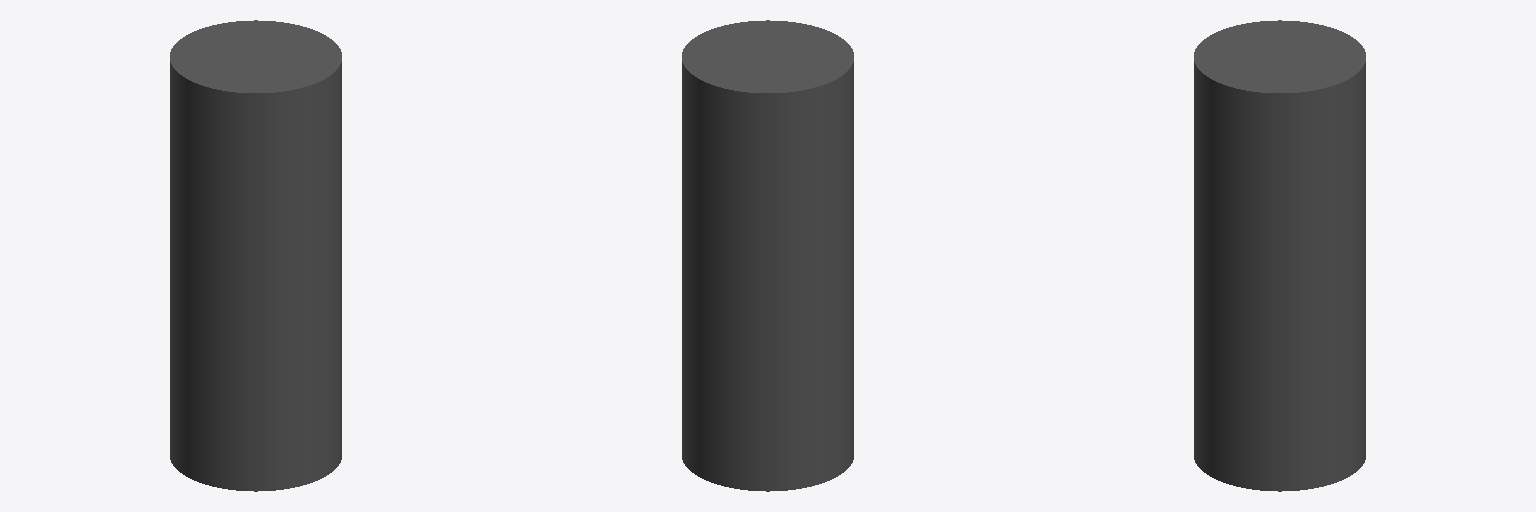
URDF robot description (iiwa14):
<?xml version="1.0" encoding="utf-8"?>
<!-- =================================================================================== -->
<!-- |    This document was autogenerated by xacro from src/iiwa_description/urdf/iiwa14.urdf.xacro | -->
<!-- |    EDITING THIS FILE BY HAND IS NOT RECOMMENDED                                 | -->
<!-- =================================================================================== -->
<robot name="iiwa14">
  <material name="Black">
    <color rgba="0.0 0.0 0.0 1.0"/>
  </material>
  <material name="Blue">
    <color rgba="0.0 0.0 0.8 1.0"/>
  </material>
  <material name="Green">
    <color rgba="0.0 0.8 0.0 1.0"/>
  </material>
  <material name="Grey">
    <color rgba="0.4 0.4 0.4 1.0"/>
  </material>
  <material name="Orange">
    <color rgba="1.0 0.423529411765 0.0392156862745 1.0"/>
  </material>
  <material name="Brown">
    <color rgba="0.870588235294 0.811764705882 0.764705882353 1.0"/>
  </material>
  <material name="Red">
    <color rgba="0.8 0.0 0.0 1.0"/>
  </material>
  <material name="White">
    <color rgba="1.0 1.0 1.0 1.0"/>
  </material>
  <!-- Fix to world just for testing -->
  <link name="world"/>
  <!--joint between {parent} and link_0-->
  <joint name="world_iiwa_joint" type="fixed">
    <origin rpy="0 0 0" xyz="0 0 0"/>
    <parent link="world"/>
    <child link="iiwa_link_0"/>
  </joint>
  <link name="iiwa_link_0">
    <inertial>
      <origin rpy="0 0 0" xyz="-0.1 0 0.07"/>
      <mass value="5"/>
      <inertia ixx="0.05" ixy="0" ixz="0" iyy="0.06" iyz="0" izz="0.03"/>
    </inertial>
    <visual>
      <origin rpy="0 0 0" xyz="0 0 0"/>
      <geometry>
        <mesh filename="package://iiwa_description/meshes/iiwa14/visual/link_0.stl"/>
      </geometry>
      <material name="Grey"/>
    </visual>
    <collision>
      <origin rpy="0 0 0" xyz="0 0 0"/>
      <geometry>
        <mesh filename="package://iiwa_description/meshes/iiwa14/collision/link_0.stl"/>
      </geometry>
      <material name="Grey"/>
    </collision>
    <self_collision_checking>
      <origin rpy="0 0 0" xyz="0 0 0"/>
      <geometry>
        <capsule length="0.25" radius="0.15"/>
      </geometry>
    </self_collision_checking>
  </link>
  <!-- joint between link_0 and link_1 -->
  <joint name="iiwa_joint_1" type="revolute">
    <parent link="iiwa_link_0"/>
    <child link="iiwa_link_1"/>
    <origin rpy="0 0 0" xyz="0 0 0.1575"/>
    <axis xyz="0 0 1"/>
    <limit effort="300" lower="-2.96705972839" upper="2.96705972839" velocity="10"/>
    <safety_controller k_position="100" k_velocity="2" soft_lower_limit="-2.93215314335" soft_upper_limit="2.93215314335"/>
    <dynamics damping="0.5"/>
  </joint>
  <link name="iiwa_link_1">
    <inertial>
      <origin rpy="0 0 0" xyz="0 -0.03 0.12"/>
      <mass value="4"/>
      <inertia ixx="0.1" ixy="0" ixz="0" iyy="0.09" iyz="0" izz="0.02"/>
    </inertial>
    <visual>
      <origin rpy="0 0 0" xyz="0 0 0"/>
      <geometry>
        <mesh filename="package://iiwa_description/meshes/iiwa14/visual/link_1.stl"/>
      </geometry>
      <material name="Orange"/>
    </visual>
    <collision>
      <origin rpy="0 0 0" xyz="0 0 0"/>
      <geometry>
        <mesh filename="package://iiwa_description/meshes/iiwa14/collision/link_1.stl"/>
      </geometry>
      <material name="Orange"/>
    </collision>
  </link>
  <!-- joint between link_1 and link_2 -->
  <joint name="iiwa_joint_2" type="revolute">
    <parent link="iiwa_link_1"/>
    <child link="iiwa_link_2"/>
    <origin rpy="1.57079632679   0 3.14159265359" xyz="0 0 0.2025"/>
    <axis xyz="0 0 1"/>
    <limit effort="300" lower="-2.09439510239" upper="2.09439510239" velocity="10"/>
    <safety_controller k_position="100" k_velocity="2" soft_lower_limit="-2.05948851735" soft_upper_limit="2.05948851735"/>
    <dynamics damping="0.5"/>
  </joint>
  <link name="iiwa_link_2">
    <inertial>
      <origin rpy="0 0 0" xyz="0.0003 0.059 0.042"/>
      <mass value="4"/>
      <inertia ixx="0.05" ixy="0" ixz="0" iyy="0.018" iyz="0" izz="0.044"/>
    </inertial>
    <visual>
      <origin rpy="0 0 0" xyz="0 0 0"/>
      <geometry>
        <mesh filename="package://iiwa_description/meshes/iiwa14/visual/link_2.stl"/>
      </geometry>
      <material name="Orange"/>
    </visual>
    <collision>
      <origin rpy="0 0 0" xyz="0 0 0"/>
      <geometry>
        <mesh filename="package://iiwa_description/meshes/iiwa14/collision/link_2.stl"/>
      </geometry>
      <material name="Orange"/>
    </collision>
  </link>
  <!-- joint between link_2 and link_3 -->
  <joint name="iiwa_joint_3" type="revolute">
    <parent link="iiwa_link_2"/>
    <child link="iiwa_link_3"/>
    <origin rpy="1.57079632679 0 3.14159265359" xyz="0 0.2045 0"/>
    <axis xyz="0 0 1"/>
    <limit effort="300" lower="-2.96705972839" upper="2.96705972839" velocity="10"/>
    <safety_controller k_position="100" k_velocity="2" soft_lower_limit="-2.93215314335" soft_upper_limit="2.93215314335"/>
    <dynamics damping="0.5"/>
  </joint>
  <link name="iiwa_link_3">
    <inertial>
      <origin rpy="0 0 0" xyz="0 0.03 0.13"/>
      <mass value="3"/>
      <inertia ixx="0.08" ixy="0" ixz="0" iyy="0.075" iyz="0" izz="0.01"/>
    </inertial>
    <visual>
      <origin rpy="0 0 0" xyz="0 0 0"/>
      <geometry>
        <mesh filename="package://iiwa_description/meshes/iiwa14/visual/link_3.stl"/>
      </geometry>
      <material name="Orange"/>
    </visual>
    <collision>
      <origin rpy="0 0 0" xyz="0 0 0"/>
      <geometry>
        <mesh filename="package://iiwa_description/meshes/iiwa14/collision/link_3.stl"/>
      </geometry>
      <material name="Orange"/>
    </collision>
  </link>
  <!-- joint between link_3 and link_4 -->
  <joint name="iiwa_joint_4" type="revolute">
    <parent link="iiwa_link_3"/>
    <child link="iiwa_link_4"/>
    <origin rpy="1.57079632679 0 0" xyz="0 0 0.2155"/>
    <axis xyz="0 0 1"/>
    <limit effort="300" lower="-2.09439510239" upper="2.09439510239" velocity="10"/>
    <safety_controller k_position="100" k_velocity="2" soft_lower_limit="-2.05948851735" soft_upper_limit="2.05948851735"/>
    <dynamics damping="0.5"/>
  </joint>
  <link name="iiwa_link_4">
    <inertial>
      <origin rpy="0 0 0" xyz="0 0.067 0.034"/>
      <mass value="2.7"/>
      <inertia ixx="0.03" ixy="0" ixz="0" iyy="0.01" iyz="0" izz="0.029"/>
    </inertial>
    <visual>
      <origin rpy="0 0 0" xyz="0 0 0"/>
      <geometry>
        <mesh filename="package://iiwa_description/meshes/iiwa14/visual/link_4.stl"/>
      </geometry>
      <material name="Orange"/>
    </visual>
    <collision>
      <origin rpy="0 0 0" xyz="0 0 0"/>
      <geometry>
        <mesh filename="package://iiwa_description/meshes/iiwa14/collision/link_4.stl"/>
      </geometry>
      <material name="Orange"/>
    </collision>
  </link>
  <!-- joint between link_4 and link_5 -->
  <joint name="iiwa_joint_5" type="revolute">
    <parent link="iiwa_link_4"/>
    <child link="iiwa_link_5"/>
    <origin rpy="-1.57079632679 3.14159265359 0" xyz="0 0.1845 0"/>
    <axis xyz="0 0 1"/>
    <limit effort="300" lower="-2.96705972839" upper="2.96705972839" velocity="10"/>
    <safety_controller k_position="100" k_velocity="2" soft_lower_limit="-2.93215314335" soft_upper_limit="2.93215314335"/>
    <dynamics damping="0.5"/>
  </joint>
  <link name="iiwa_link_5">
    <inertial>
      <origin rpy="0 0 0" xyz="0.0001 0.021 0.076"/>
      <mass value="1.7"/>
      <inertia ixx="0.02" ixy="0" ixz="0" iyy="0.018" iyz="0" izz="0.005"/>
    </inertial>
    <visual>
      <origin rpy="0 0 0" xyz="0 0 0"/>
      <geometry>
        <mesh filename="package://iiwa_description/meshes/iiwa14/visual/link_5.stl"/>
      </geometry>
      <material name="Orange"/>
    </visual>
    <collision>
      <origin rpy="0 0 0" xyz="0 0 0"/>
      <geometry>
        <mesh filename="package://iiwa_description/meshes/iiwa14/collision/link_5.stl"/>
      </geometry>
      <material name="Orange"/>
    </collision>
  </link>
  <!-- joint between link_5 and link_6 -->
  <joint name="iiwa_joint_6" type="revolute">
    <parent link="iiwa_link_5"/>
    <child link="iiwa_link_6"/>
    <origin rpy="1.57079632679 0 0" xyz="0 0 0.2155"/>
    <axis xyz="0 0 1"/>
    <limit effort="300" lower="-2.09439510239" upper="2.09439510239" velocity="10"/>
    <safety_controller k_position="100" k_velocity="2" soft_lower_limit="-2.05948851735" soft_upper_limit="2.05948851735"/>
    <dynamics damping="0.5"/>
  </joint>
  <link name="iiwa_link_6">
    <inertial>
      <origin rpy="0 0 0" xyz="0 0.0006 0.0004"/>
      <mass value="1.8"/>
      <inertia ixx="0.005" ixy="0" ixz="0" iyy="0.0036" iyz="0" izz="0.0047"/>
    </inertial>
    <visual>
      <origin rpy="0 0 0" xyz="0 0 0"/>
      <geometry>
        <mesh filename="package://iiwa_description/meshes/iiwa14/visual/link_6.stl"/>
      </geometry>
      <material name="Orange"/>
    </visual>
    <collision>
      <origin rpy="0 0 0" xyz="0 0 0"/>
      <geometry>
        <mesh filename="package://iiwa_description/meshes/iiwa14/collision/link_6.stl"/>
      </geometry>
      <material name="Orange"/>
    </collision>
  </link>
  <!-- joint between link_6 and link_7 -->
  <joint name="iiwa_joint_7" type="revolute">
    <parent link="iiwa_link_6"/>
    <child link="iiwa_link_7"/>
    <origin rpy="-1.57079632679 3.14159265359 0" xyz="0 0.081 0"/>
    <axis xyz="0 0 1"/>
    <limit effort="300" lower="-3.05432619099" upper="3.05432619099" velocity="10"/>
    <safety_controller k_position="100" k_velocity="2" soft_lower_limit="-3.01941960595" soft_upper_limit="3.01941960595"/>
    <dynamics damping="0.5"/>
  </joint>
  <link name="iiwa_link_7">
    <inertial>
      <origin rpy="0 0 0" xyz="0 0 0.02"/>
      <mass value="0.3"/>
      <inertia ixx="0.001" ixy="0" ixz="0" iyy="0.001" iyz="0" izz="0.001"/>
    </inertial>
    <visual>
      <origin rpy="0 0 0" xyz="0 0 0"/>
      <geometry>
        <mesh filename="package://iiwa_description/meshes/iiwa14/visual/link_7.stl"/>
      </geometry>
      <material name="Grey"/>
    </visual>
    <collision>
      <origin rpy="0 0 0" xyz="0 0 0"/>
      <geometry>
        <mesh filename="package://iiwa_description/meshes/iiwa14/collision/link_7.stl"/>
      </geometry>
      <material name="Grey"/>
    </collision>
  </link>
  <joint name="iiwa_joint_ee" type="fixed">
    <parent link="iiwa_link_7"/>
    <child link="iiwa_link_ee"/>
    <origin rpy="0 0 0" xyz="0 0 0.045"/>
  </joint>
  <link name="iiwa_link_ee">
    </link>
    
  <joint name="object_joint" type="fixed">
        <origin rpy="0 0 0" xyz="0 0 0.001"/>
        <parent link="iiwa_link_ee"/>
        <child link="object_link"/>
    </joint>
  
    <link name="object_link">
        <visual>
            <origin rpy="0 0 0" xyz="0 0 0"/>
            <geometry>
                <mesh filename="package://iiwa_description/meshes/cylindrical_peg_295.stl" scale="0.001 0.001 0.001"/>
            </geometry>
            <material name="Grey"/>
        </visual>
        <collision>
            <origin rpy="0 0 0" xyz="0 0 0"/>
            <geometry>
                <mesh filename="package://iiwa_description/meshes/cylindrical_peg_295.stl" scale="0.001 0.001 0.001"/>
            </geometry>
            <material name="Grey"/>
        </collision>
    </link>

</robot>

--- What the picture shows (computed from the rendered views, not written in the file) ---
The picture shows the robot from 3 angles, left to right: view 1: azimuth 30°, elevation 25°; view 2: azimuth 150°, elevation 25°; view 3: azimuth 270°, elevation 25°; orthographic projection.
Model iiwa14 with 11 links and 10 joints (7 revolute, 3 fixed), rooted at world, posed every joint at zero.
Visible links, largest first — view 1: object_link; view 2: object_link; view 3: object_link.
Boxes of the visible links, box(x1,y1,x2,y2) form: object_link: box(170, 20, 341, 491); object_link: box(682, 20, 853, 491); object_link: box(1194, 20, 1365, 491).
Bounding box of the posed robot: 0.059 × 0.059 × 0.15 m (x, y, z).
1 mesh visuals loaded from 9 distinct referenced files (1 binary STL); not drawn: 8 (reference not matched to a file when rendering).